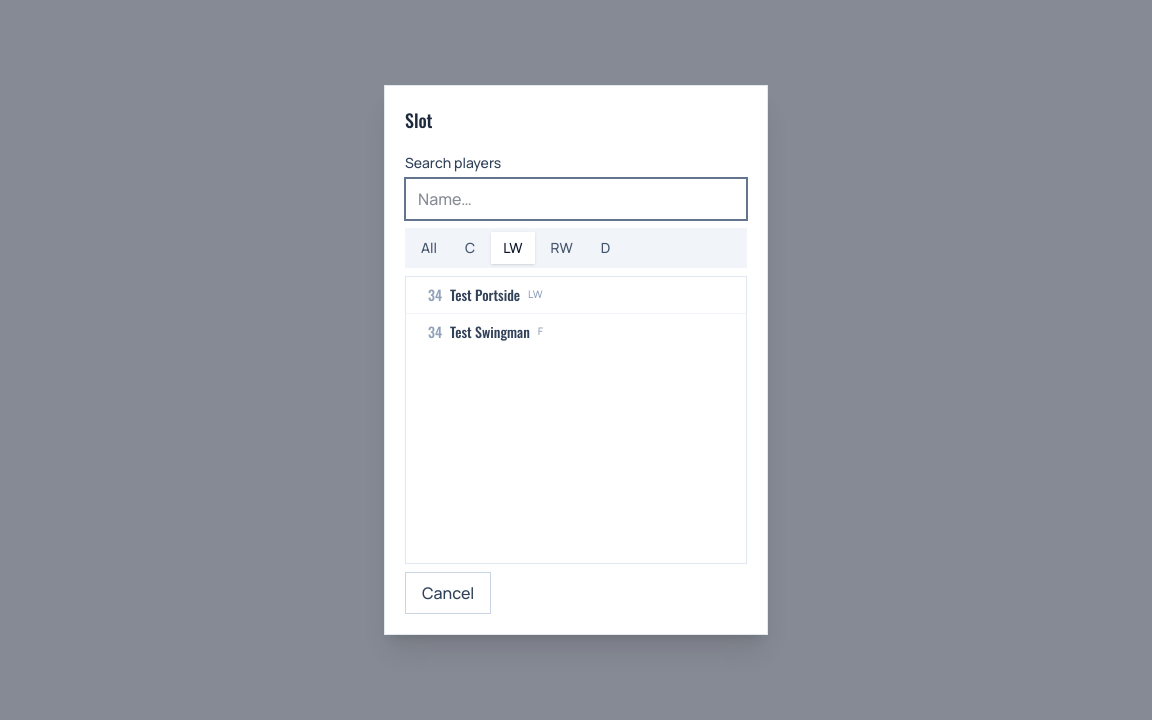
Test: LineupPlayerPicker › preselects the slot's wing and filters by exact position, keeping a generic forward
Expected: the text "Test Portside" is shown, [450,285,520,305]
Expected: the text "Test Swingman" is shown, [450,322,530,342]
Click the button "C" at point(470, 248), box [453,232,487,264]
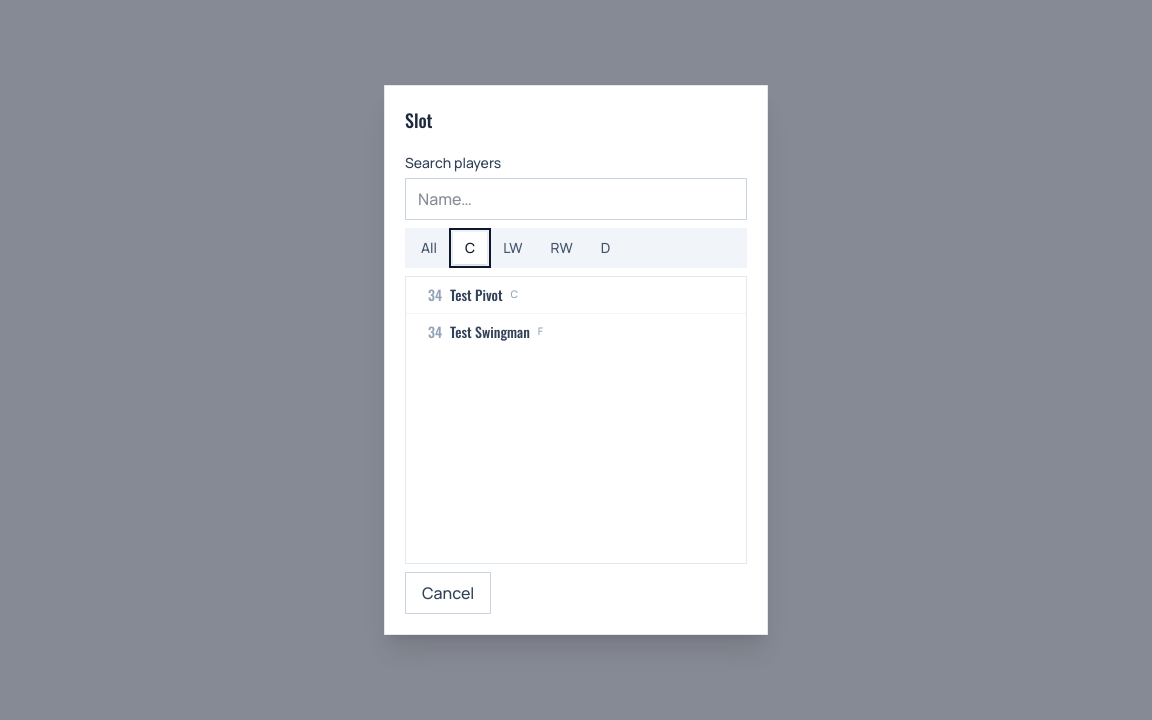
Now the text "Test Pivot" is shown, box [450,285,503,305]
Now the button "Test Portside" is gone
Click the button "All" at point(429, 248), box [409,232,449,264]
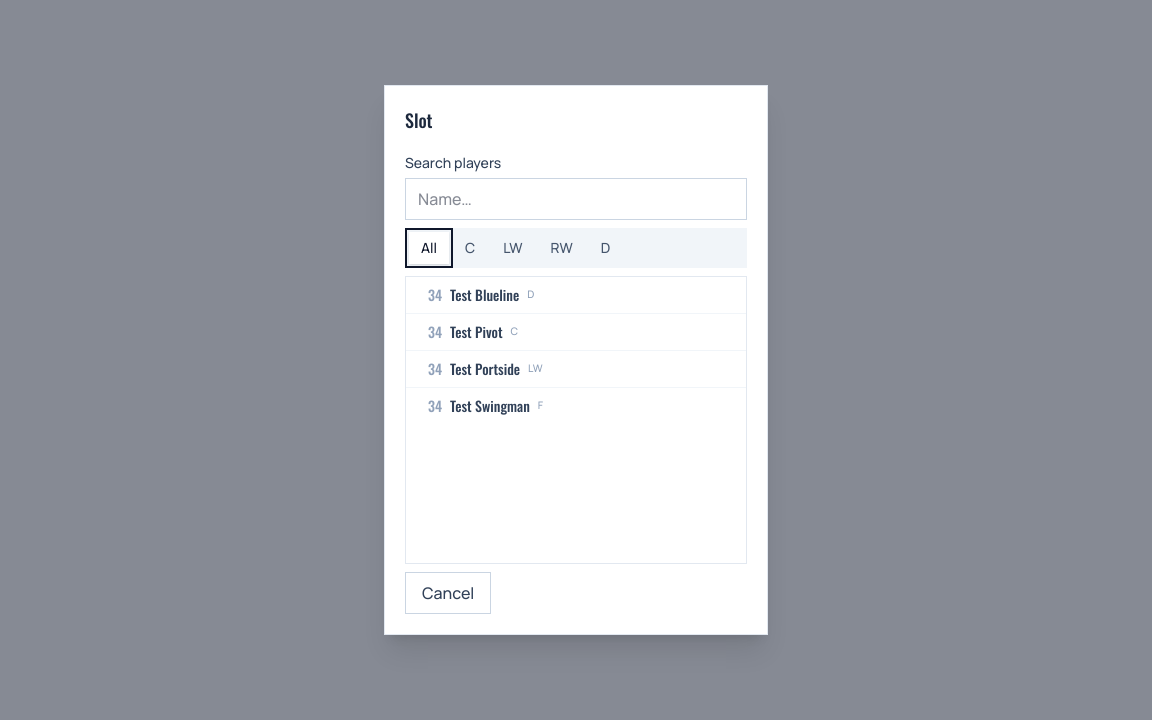
Now the text "Test Blueline" is shown, box [450,285,519,305]
